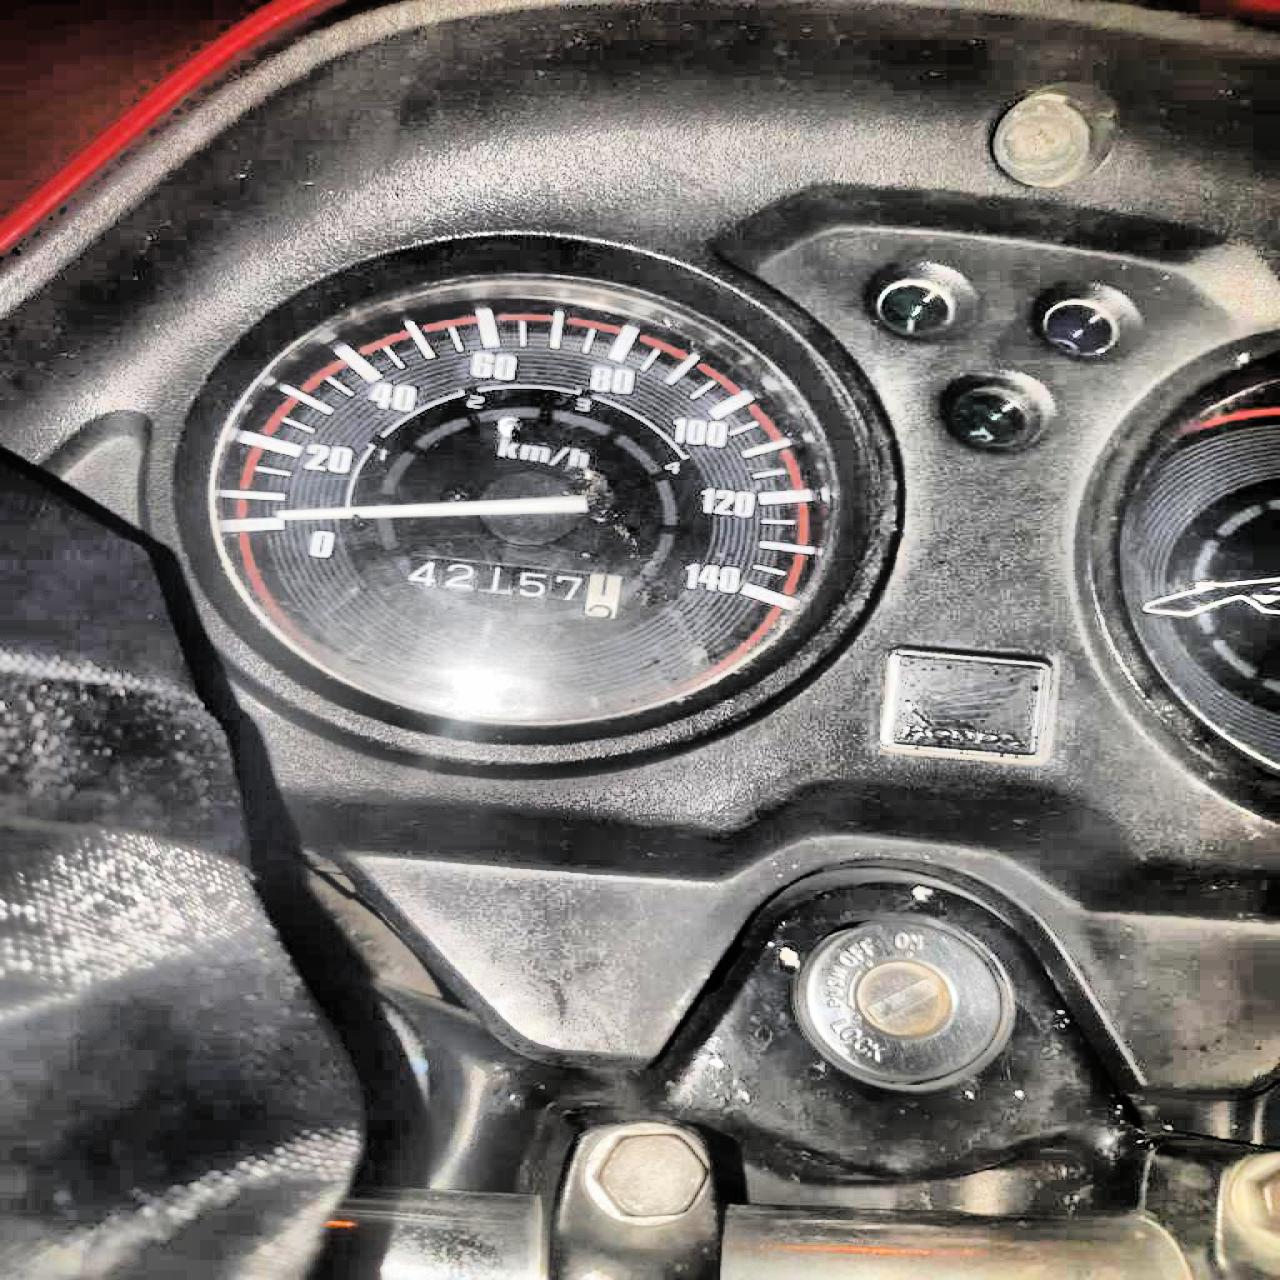1: (490, 565, 501, 593), (598, 571, 607, 599)
2: (443, 563, 474, 587)
4: (407, 560, 435, 586)
5: (517, 570, 545, 595)
7: (553, 574, 581, 600)
odometer: (402, 550, 624, 620)
